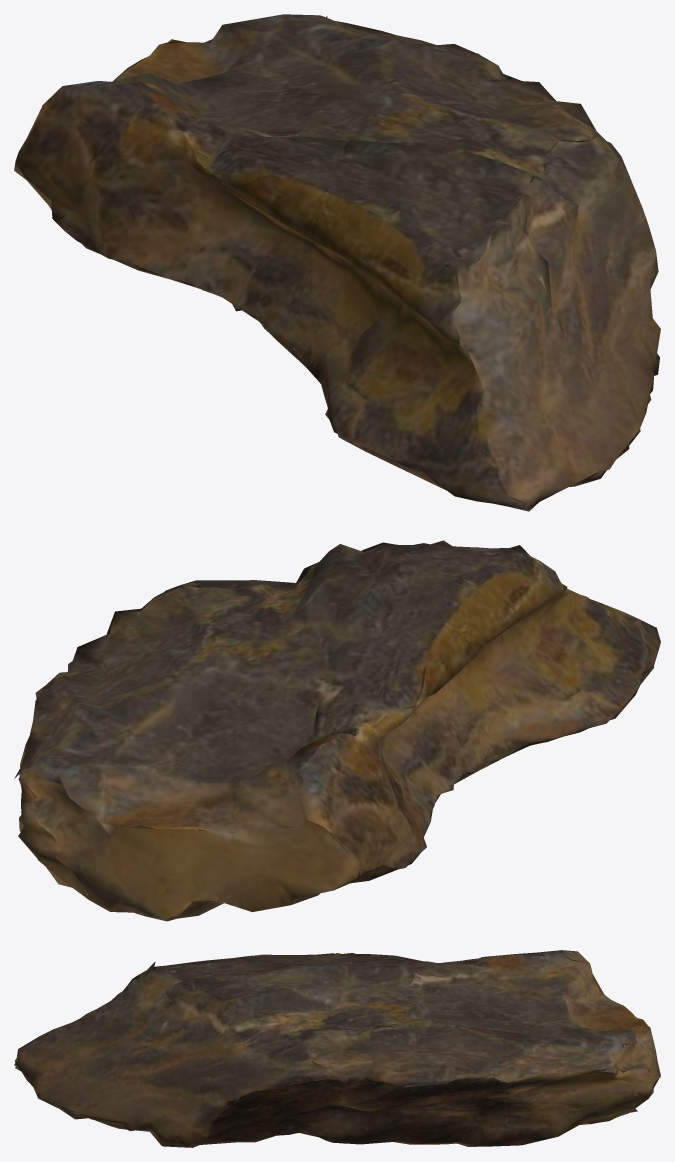
Rendered from rock_09.glb.
The picture shows the model from 3 angles, top to bottom: view 1: azimuth 30°, elevation 25°; view 2: azimuth 150°, elevation 25°; view 3: azimuth 270°, elevation 25°; orthographic projection. The views are drawn at different scales.
Visible parts, largest first — view 1: rock_09_LOD0; view 2: rock_09_LOD0; view 3: rock_09_LOD0.
Part boxes in pixels (x1=…): rock_09_LOD0: x1=14, y1=14, x2=660, y2=511; rock_09_LOD0: x1=14, y1=540, x2=660, y2=921; rock_09_LOD0: x1=14, y1=950, x2=660, y2=1147.
Size of the model in its own units: 0.0742 by 0.0326 by 0.1447.
1 material, 1 textured.
